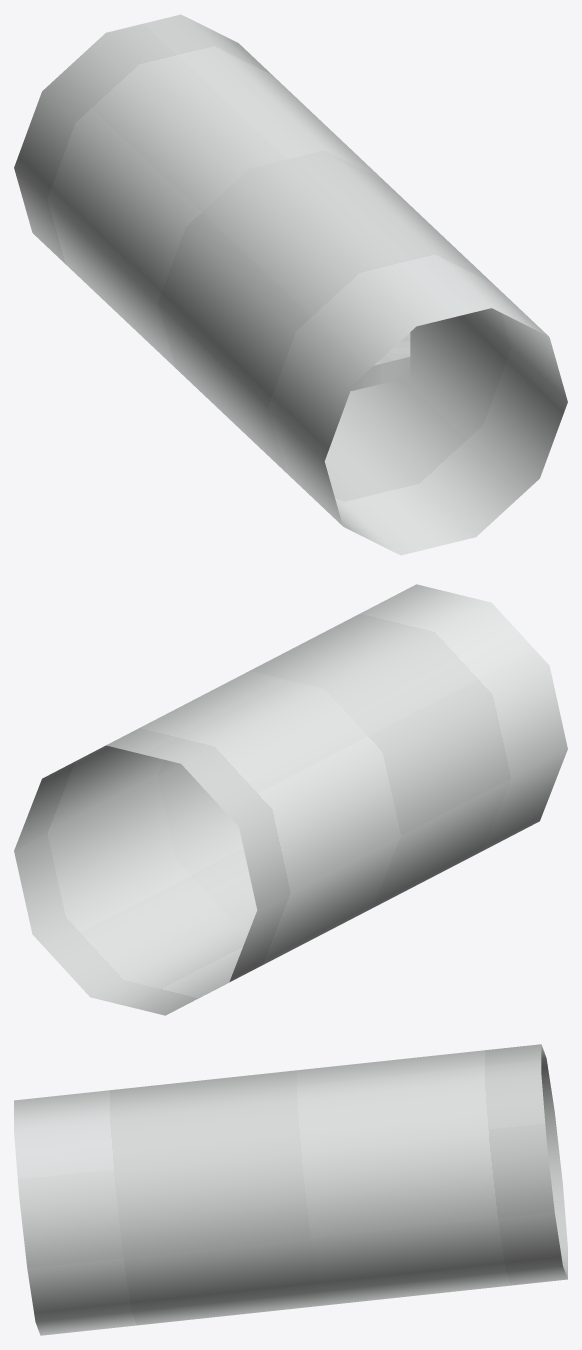
Rendered from trusssignalarm_sloped8_c8.obj.
The picture shows the model from 3 angles, top to bottom: view 1: azimuth 30°, elevation 25°; view 2: azimuth 150°, elevation 25°; view 3: azimuth 270°, elevation 25°; orthographic projection. The views are drawn at different scales.
Visible parts, largest first — view 1: trusssignalarm_sloped8_c8; view 2: trusssignalarm_sloped8_c8; view 3: trusssignalarm_sloped8_c8.
Part boxes in pixels (left/top/right/bottom): trusssignalarm_sloped8_c8: left=14, top=14, right=567, bottom=555; trusssignalarm_sloped8_c8: left=14, top=584, right=567, bottom=1015; trusssignalarm_sloped8_c8: left=14, top=1044, right=567, bottom=1335.
Bounding box in the file's own units: 0.325 × 0.3915 × 0.7549.
